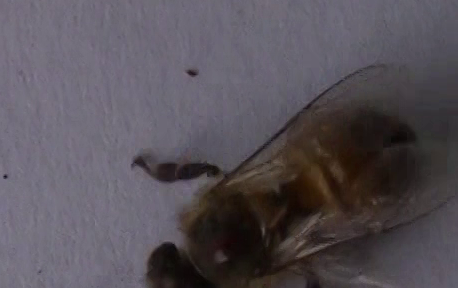Varroa destructor: (208, 235, 251, 274)
